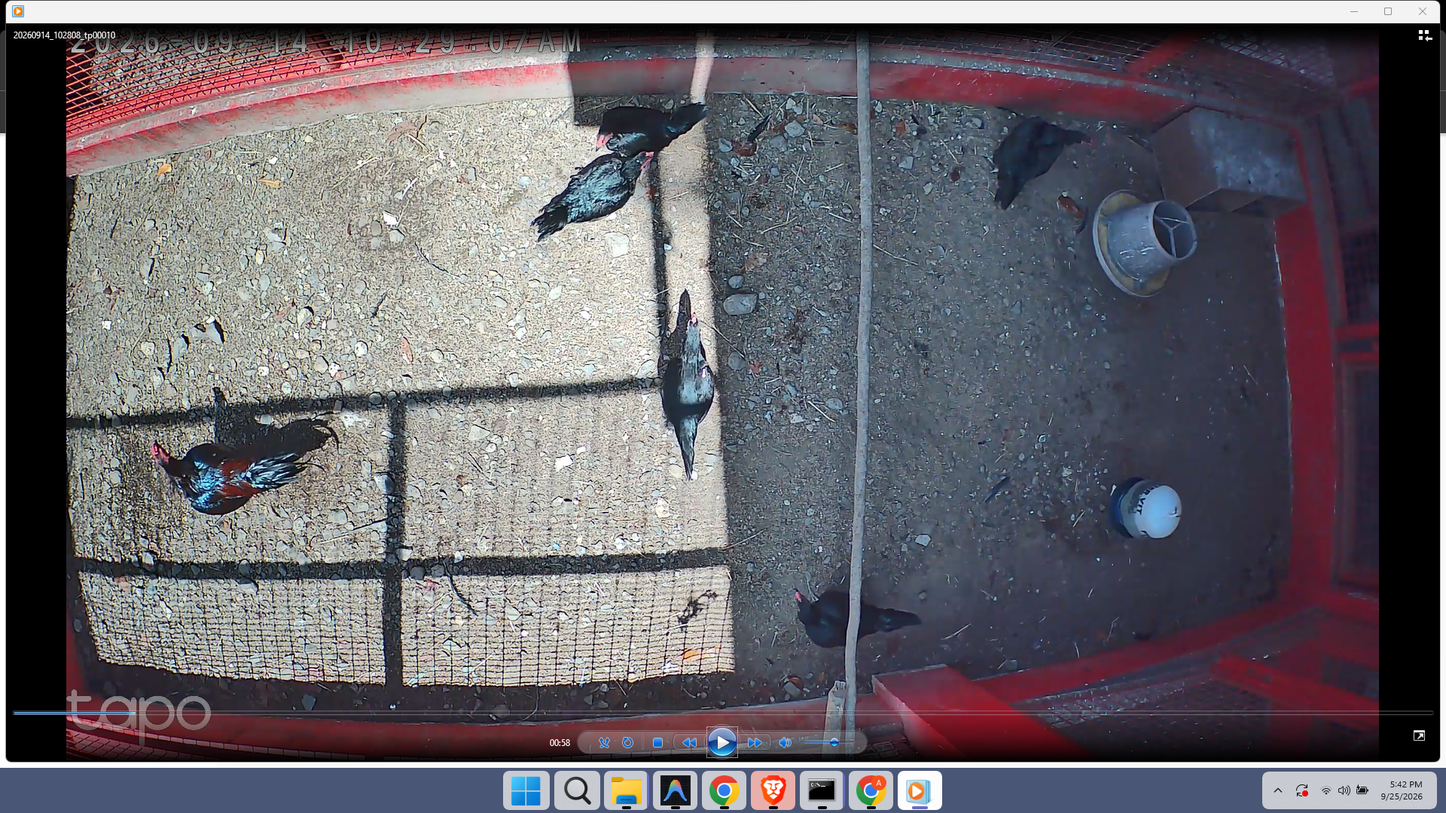Chicken: (532, 143, 654, 243), (987, 119, 1093, 209), (788, 583, 926, 652), (658, 314, 714, 480), (592, 104, 714, 157)
Drinker: (1111, 476, 1184, 542)
Feeder: (1089, 187, 1202, 301)
Rooster: (145, 439, 322, 516)
